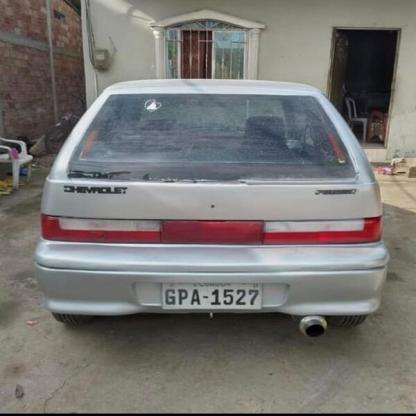Placa: (158, 275, 268, 319)
